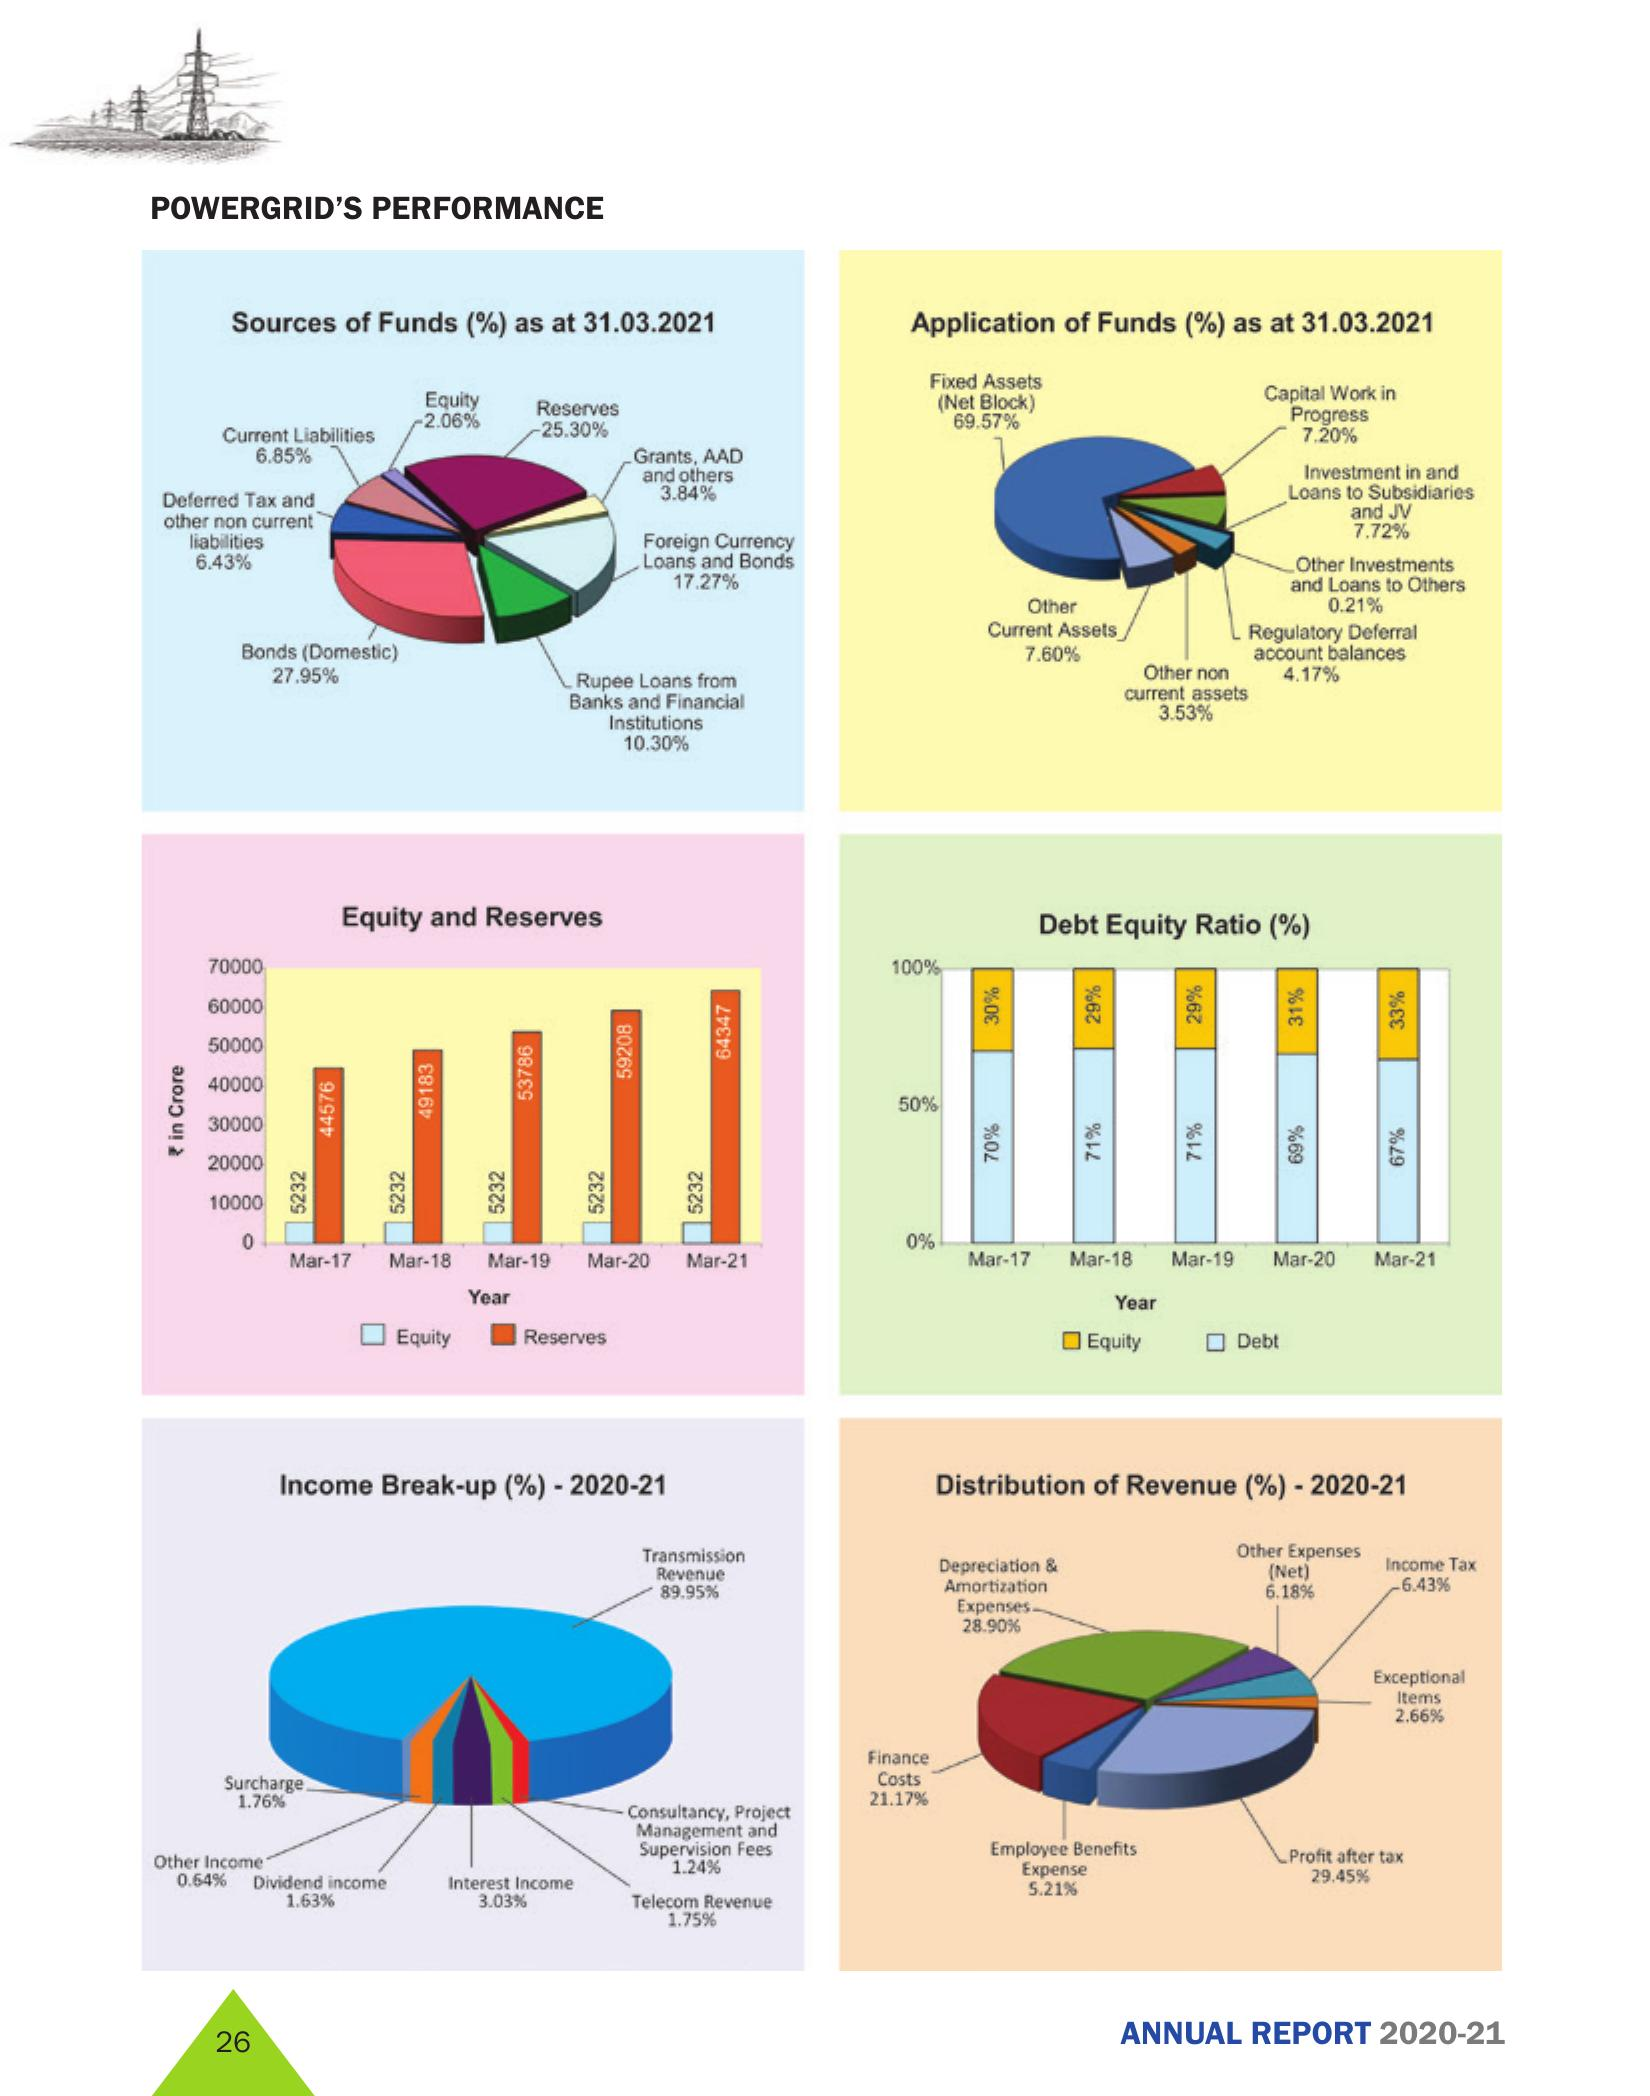Footer: (0, 1974, 1650, 2096)
Header: (0, 0, 1650, 172)
Image: (129, 825, 810, 1388), (126, 242, 805, 805), (134, 1405, 813, 1968), (837, 829, 1499, 1393), (845, 242, 1507, 805), (845, 1410, 1504, 1965)
